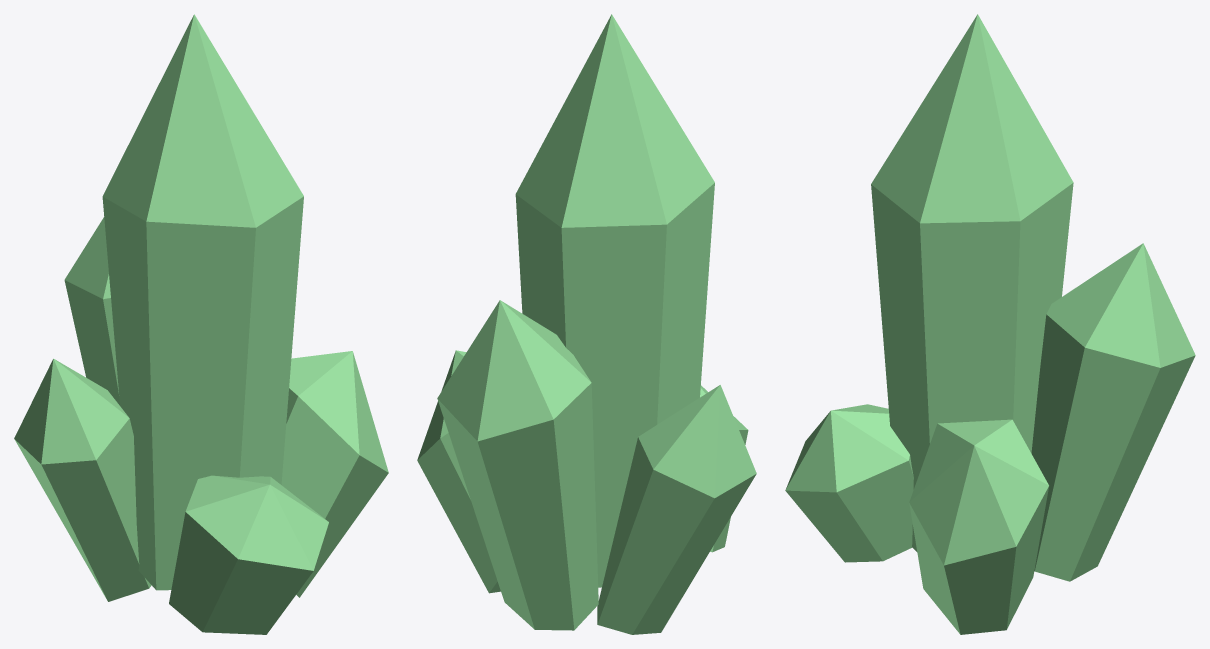
File: Crystals2.fbx
3 renders of one model, left to right at view 1: azimuth 30°, elevation 25°; view 2: azimuth 150°, elevation 25°; view 3: azimuth 270°, elevation 25°, orthographic. The views are drawn at different scales.
Visible parts, largest first — view 1: Cylinder.002; view 2: Cylinder.002; view 3: Cylinder.002.
Boxes of the visible parts, left/top/right/bottom form: Cylinder.002: left=14, top=14, right=388, bottom=634; Cylinder.002: left=417, top=14, right=756, bottom=634; Cylinder.002: left=785, top=14, right=1195, bottom=634.
Bounding box in the file's own units: 2.64 × 3.01 × 4.66.
